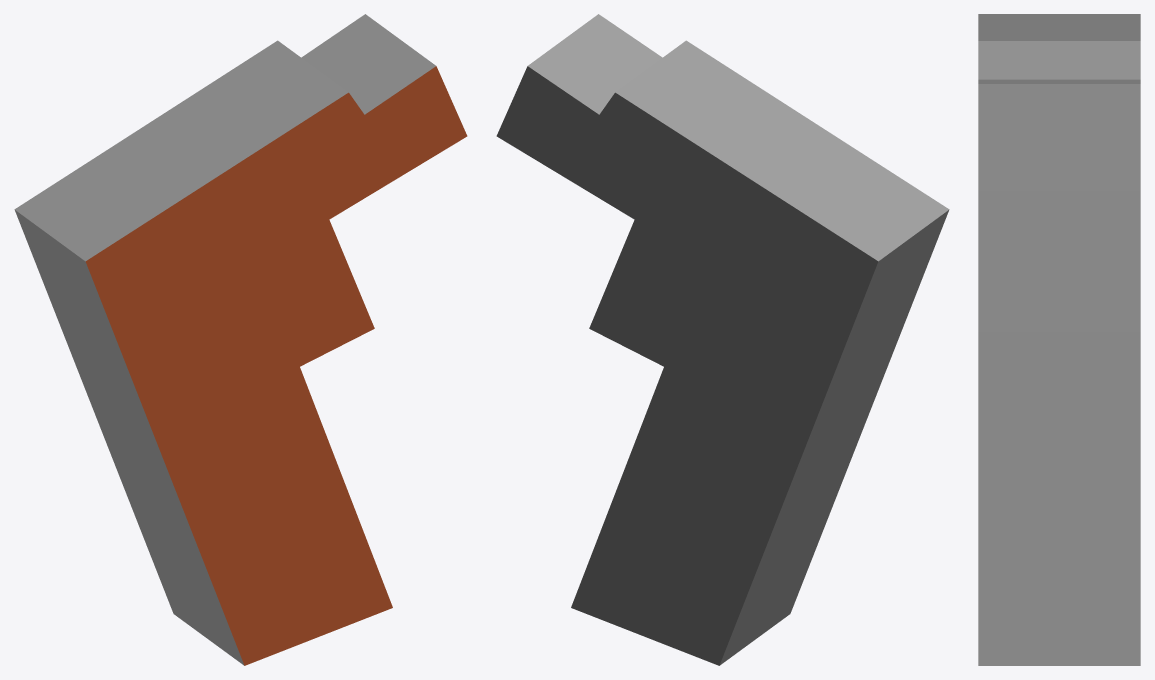
The model's file is construction_1904_assumed_A_Casa_h6m.obj.
3 renders of one model, left to right at view 1: azimuth 30°, elevation 25°; view 2: azimuth 150°, elevation 25°; view 3: azimuth 270°, elevation 25°, orthographic. The views are drawn at different scales.
Parts seen in each view (by area): view 1: construction_1904_assumed_A_Casa; view 2: construction_1904_assumed_A_Casa; view 3: construction_1904_assumed_A_Casa.
Part boxes in pixels (left/top/right/bottom): construction_1904_assumed_A_Casa: left=14, top=14, right=467, bottom=665; construction_1904_assumed_A_Casa: left=496, top=14, right=949, bottom=665; construction_1904_assumed_A_Casa: left=978, top=14, right=1140, bottom=665.
Bounding box in the file's own units: 18.62 × 25.77 × 6.
